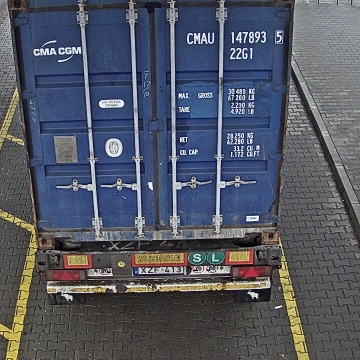serial_id: (186, 31, 282, 44)
